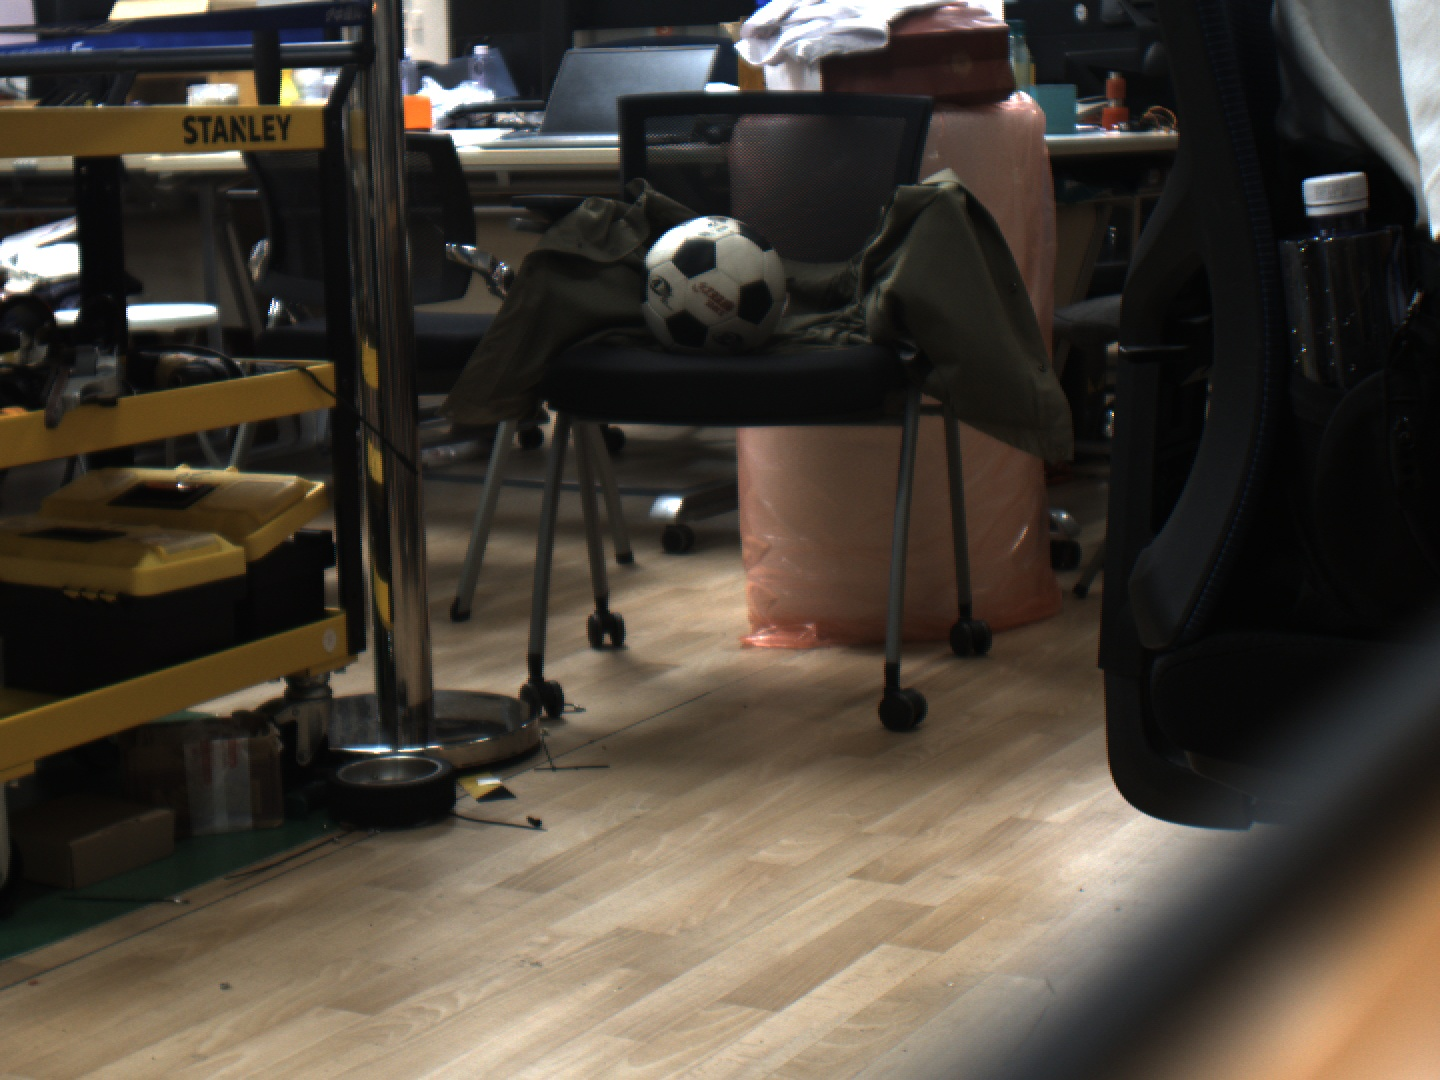ball: (642, 214, 788, 358)
